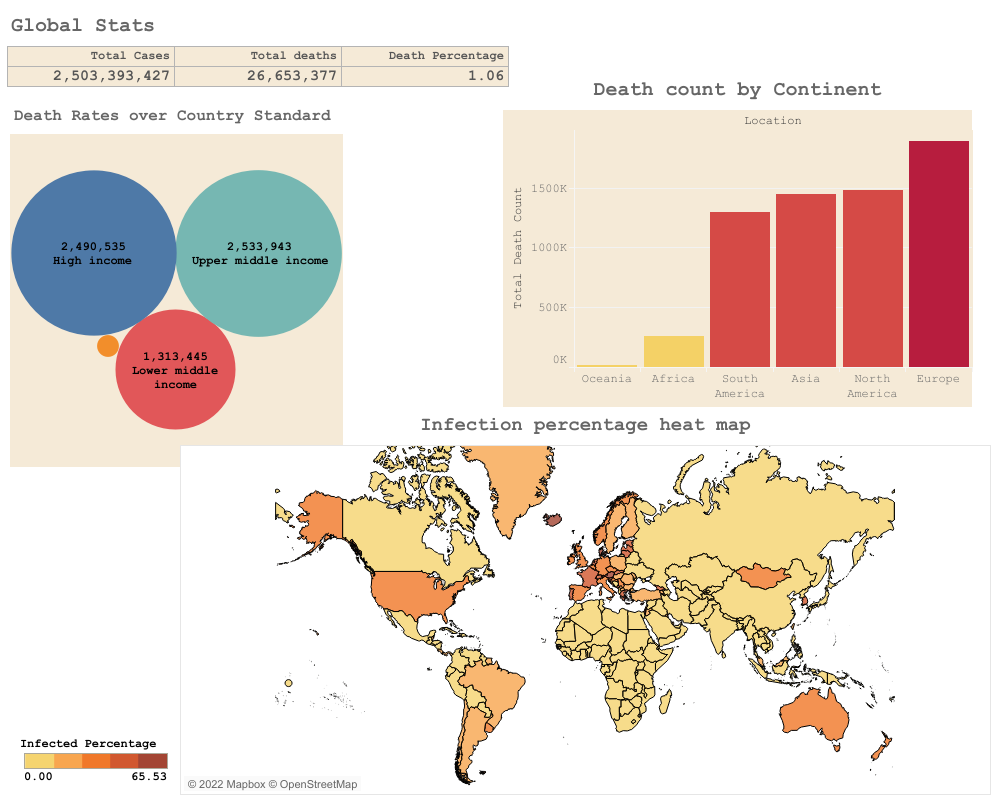

This screenshot's page, from the dashboard's own definition file:
{"tool":"tableau","page":{"name":"Analysis Dashboard","canvas":[1000,800],"ordinal":0},"visuals":[{"type":"worksheet","title":"Sheet 2","mark":"Automatic","box":[7,8,570,276]},{"type":"legend","title":"Sheet 1","param":"[federated.1gib1w20ofiwo3127obw311uau4o].[sum:TotalDeathCount:qk]","box":[8,8,984,22]},{"type":"worksheet","title":"Sheet 3","mark":"Automatic","rows":["TotalDeathCount"],"cols":["location"],"box":[503,72,469,335]},{"type":"worksheet","title":"Sheet 1","mark":"Circle","box":[10,100,453,366]},{"type":"worksheet","title":"Sheet 4","mark":"Multipolygon","box":[180,408,811,387]},{"type":"legend","title":"Sheet 4","param":"[federated.022s82w189hf921bx6h4i1e9tlmf].[sum:InfectedPercentage:qk]","box":[20,733,152,67]}]}

Visuals, with their boxes in screenshot pixels (x1, y1, x2, y2), scaled from the page's 1000x800 canvas onto the 999x799 screenshot:
"Sheet 2" worksheet: [x1=7, y1=8, x2=576, y2=284]
"Sheet 1" legend: [x1=8, y1=8, x2=991, y2=30]
"Sheet 3" worksheet: [x1=502, y1=72, x2=971, y2=406]
"Sheet 1" worksheet (Circle marks): [x1=10, y1=100, x2=463, y2=465]
"Sheet 4" worksheet (Multipolygon marks): [x1=180, y1=407, x2=990, y2=794]
"Sheet 4" legend: [x1=20, y1=732, x2=172, y2=798]
